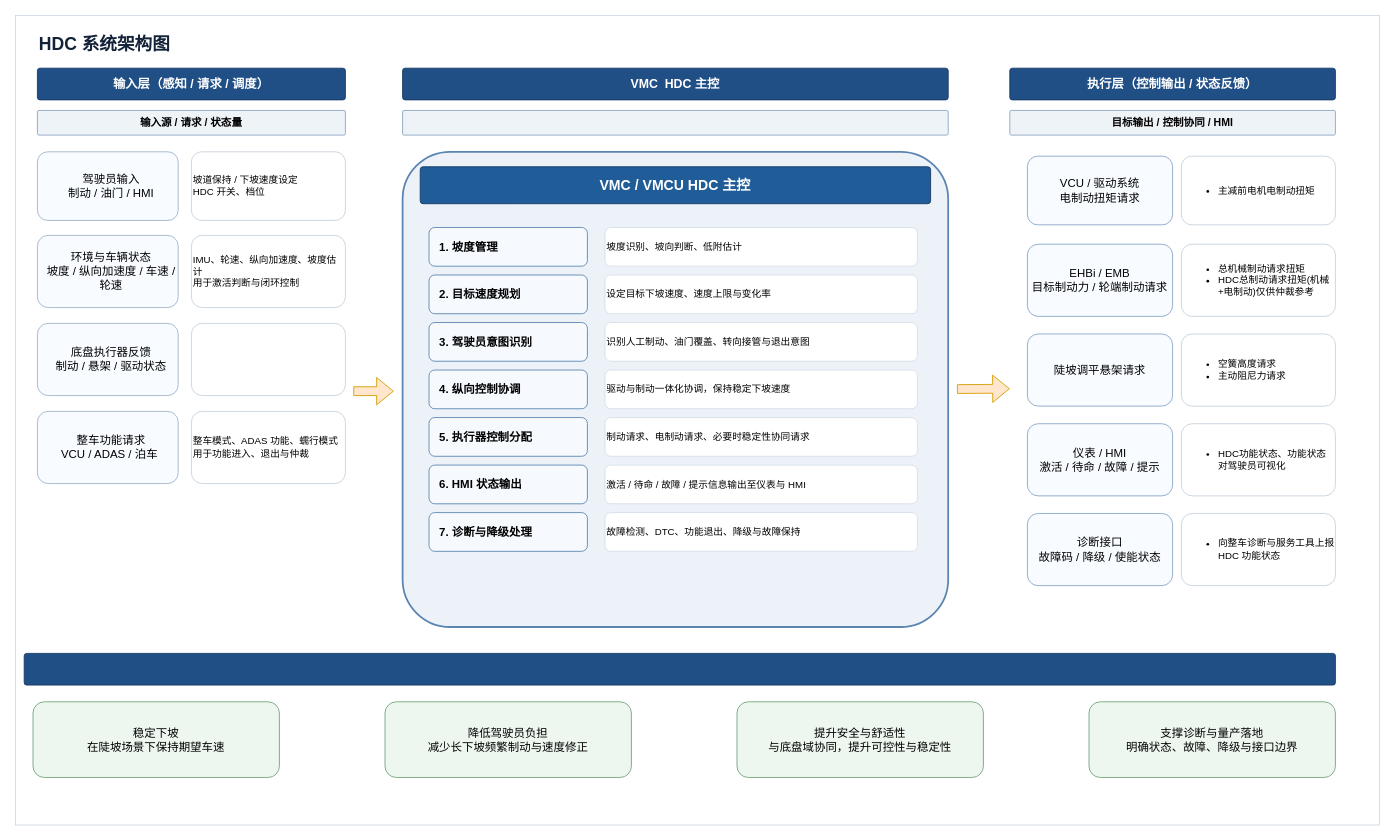
This 1395x840 diagram has some shape labels left out. The shapes that lost their labels are listed below. From the top down, each one's centre as x and y in pixels, then its label:
At (x=675, y=122): "算法主链 / 约束 / 协同".
At (x=268, y=359): "EHBi / EMB、驱动系统、悬架系统 反馈执行器能力与当前状态： 制动盘过热标志位 制动高优先级功能状态：ECD，HHC".
At (x=679, y=669): "整车效果".
